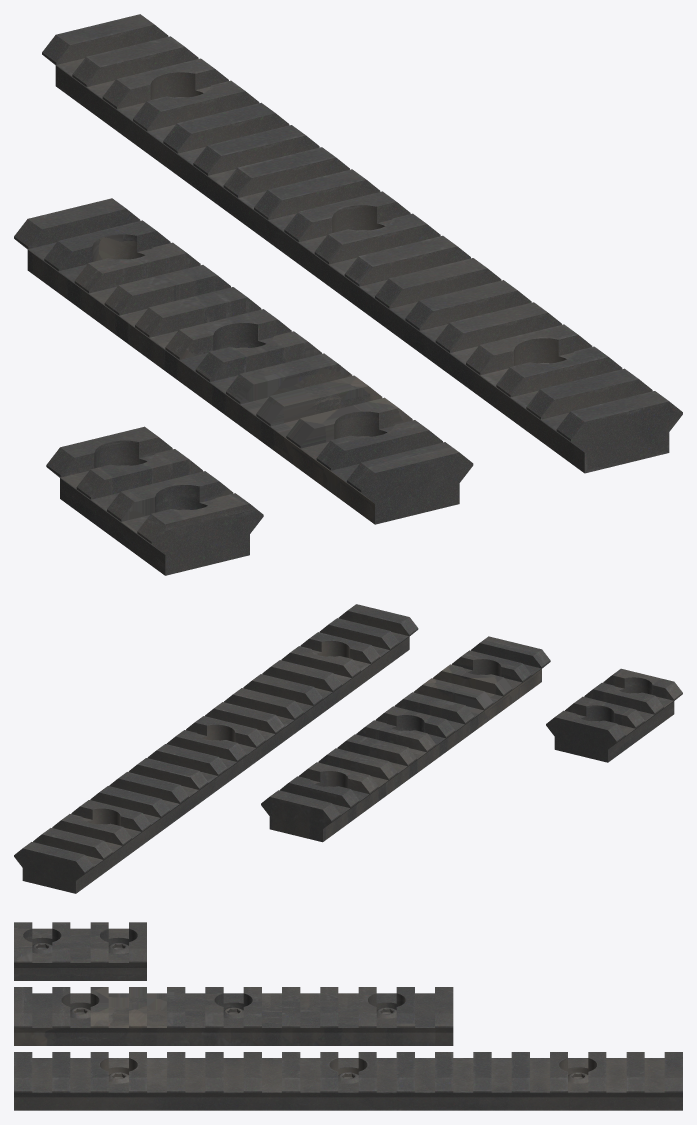
File: Rail_ALL_LP.fbx
The picture shows the model from 3 angles, top to bottom: view 1: azimuth 30°, elevation 25°; view 2: azimuth 150°, elevation 25°; view 3: azimuth 270°, elevation 25°; orthographic projection. The views are drawn at different scales.
Visible parts, largest first — view 1: Rail_S17_LP, Rail_S11_LP, Rail_S3_LP; view 2: Rail_S17_LP, Rail_S11_LP, Rail_S3_LP; view 3: Rail_S17_LP, Rail_S11_LP, Rail_S3_LP.
Part boxes in pixels (x1,y1,x2,y2): Rail_S17_LP: (42,14,682,473); Rail_S11_LP: (14,198,473,524); Rail_S3_LP: (46,426,263,575); Rail_S17_LP: (14,604,418,893); Rail_S11_LP: (261,636,550,842); Rail_S3_LP: (546,668,682,762); Rail_S17_LP: (14,1052,682,1110); Rail_S11_LP: (14,987,453,1045); Rail_S3_LP: (14,922,146,980).
Size of the model in its own units: 10.13 by 0.94 by 17.47.
